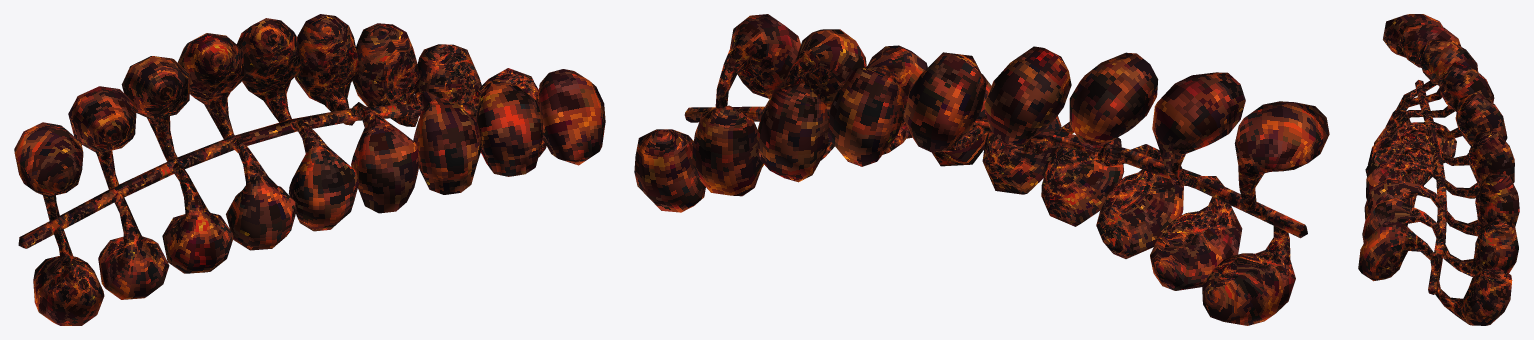
The model's file is af_dummy_glassbeads.fbx.
3 views of the same model, side by side, from view 1: azimuth 30°, elevation 25°; view 2: azimuth 150°, elevation 25°; view 3: azimuth 270°, elevation 25° (orthographic). The views are drawn at different scales.
Parts seen in each view (by area): view 1: 0; view 2: 0; view 3: 0.
Part boxes in pixels (left/top/right/bottom): 0: left=14, top=14, right=605, bottom=325; 0: left=634, top=14, right=1329, bottom=325; 0: left=1358, top=14, right=1519, bottom=325.
Bounding box in the file's own units: 0.4697 × 0.176 × 0.1622.
